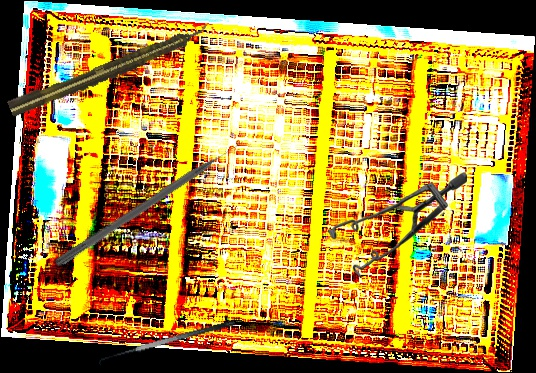Handpiece: (6, 20, 212, 119)
Pusher: (52, 137, 248, 271)
Spatula Surgical: (96, 318, 239, 372)
Speculum: (327, 168, 467, 281)
